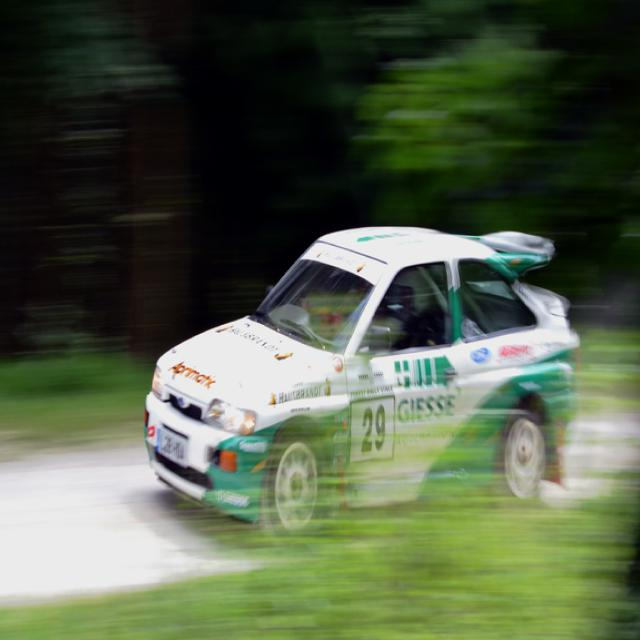car: (139, 224, 581, 518)
